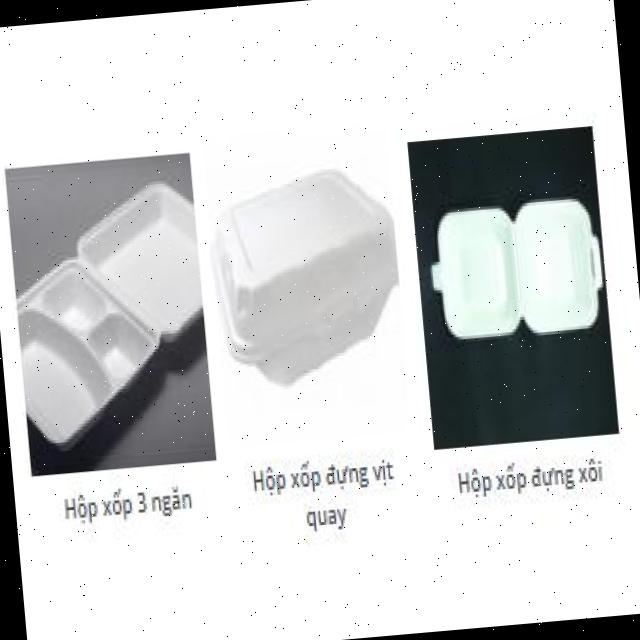styrofoam: (4, 175, 212, 454), (203, 158, 407, 388)
